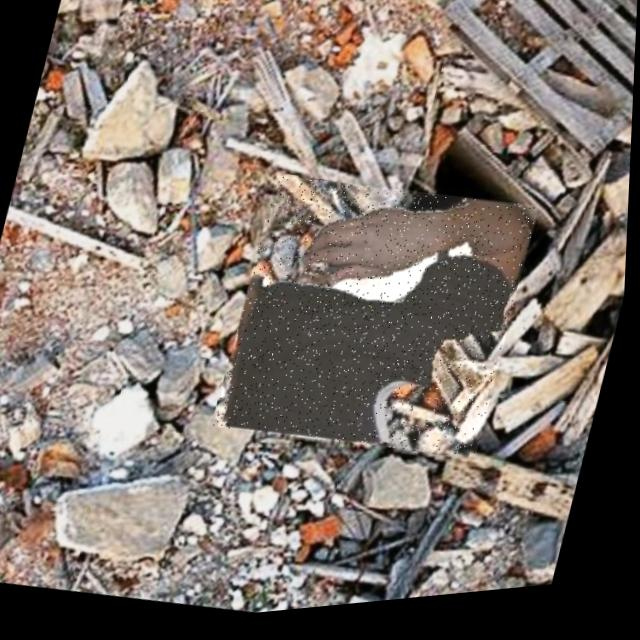Person in Rubble: (214, 160, 541, 487)
